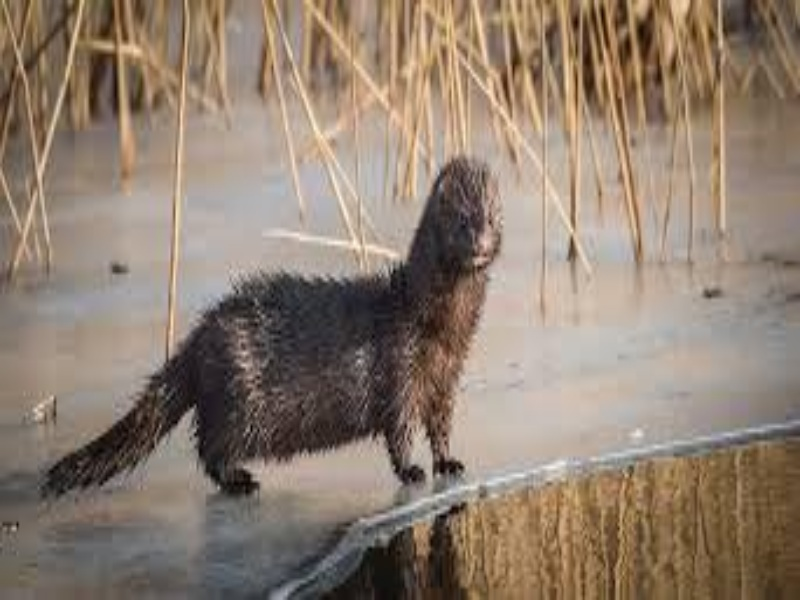minkish: (38, 155, 505, 507)
